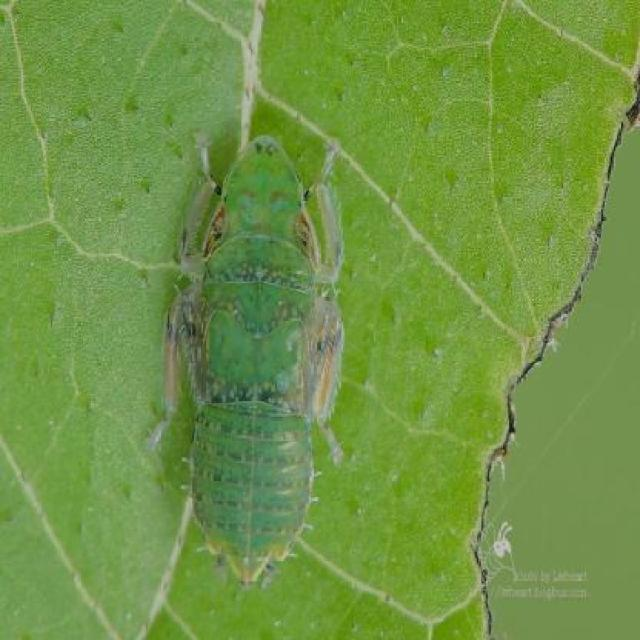green-leafhopper: (164, 133, 353, 584)
